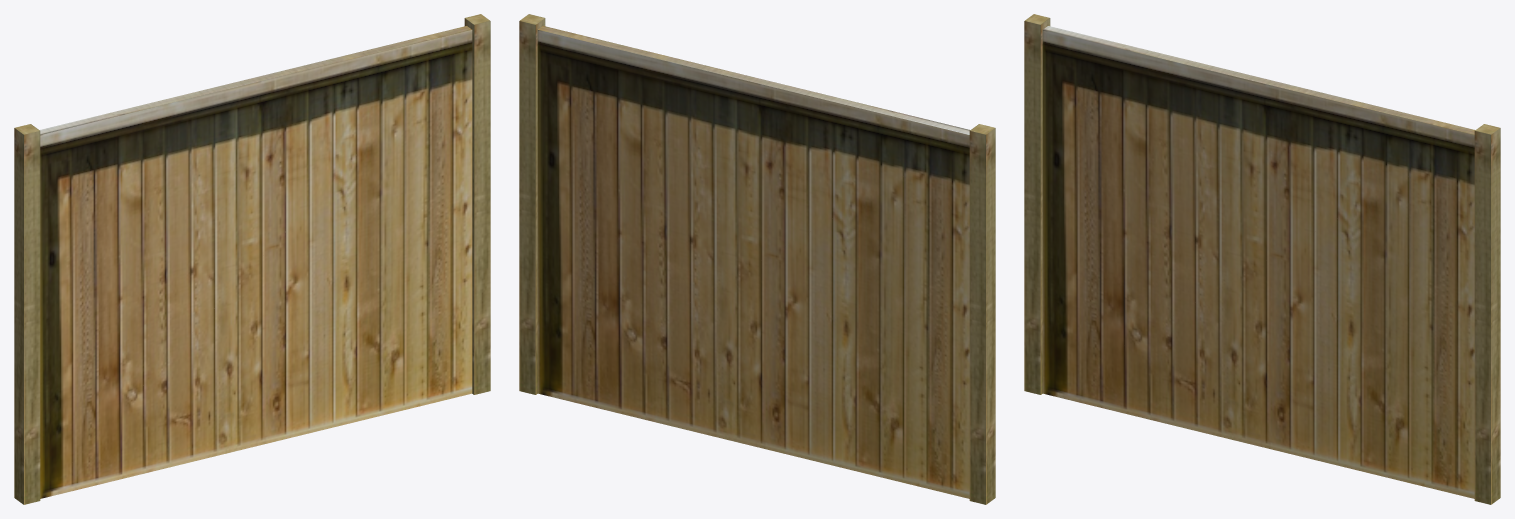
Rendered from geo_Fence.fbx.
3 renders of one model, left to right at view 1: azimuth 30°, elevation 25°; view 2: azimuth 150°, elevation 25°; view 3: azimuth 330°, elevation 25°, orthographic.
Parts seen in each view (by area): view 1: geo_Fence; view 2: geo_Fence; view 3: geo_Fence.
Part boxes in pixels (x1,y1,x2,y2): geo_Fence: (14,14,490,504); geo_Fence: (519,14,995,504); geo_Fence: (1024,14,1500,504).
Size of the model in its own units: 250 by 189 by 8.74.
1 material, 1 textured.
